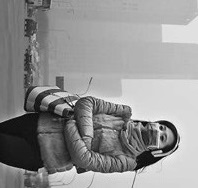person: (3, 82, 179, 178)
